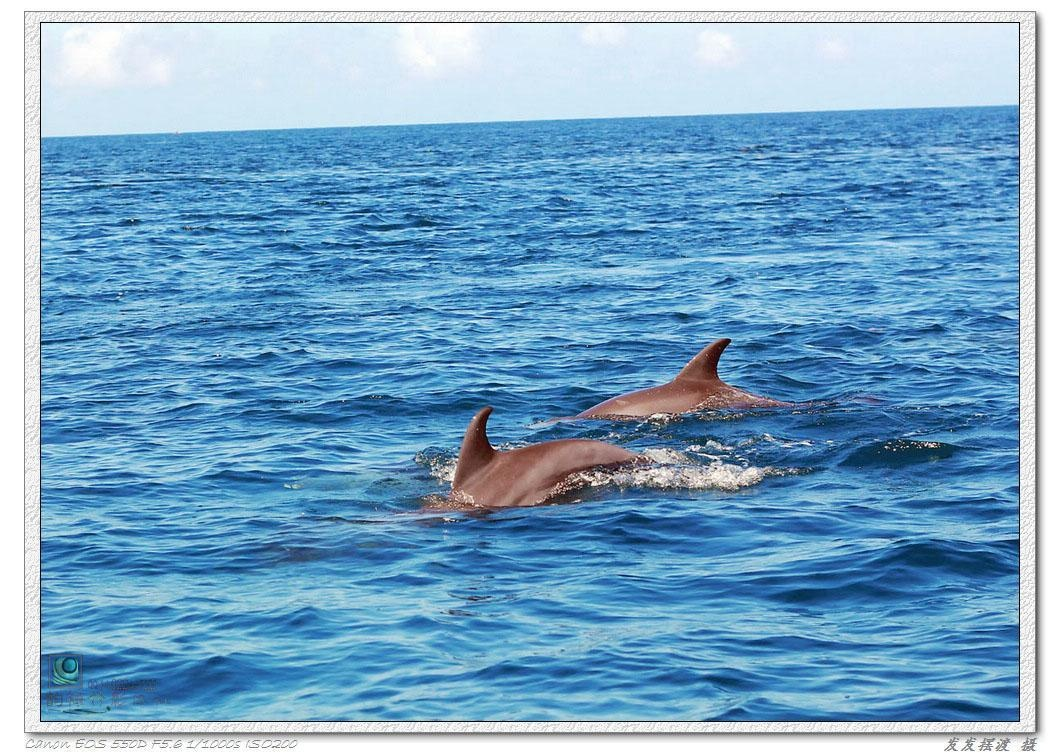fish: (400, 414, 705, 534), (554, 334, 813, 426)
